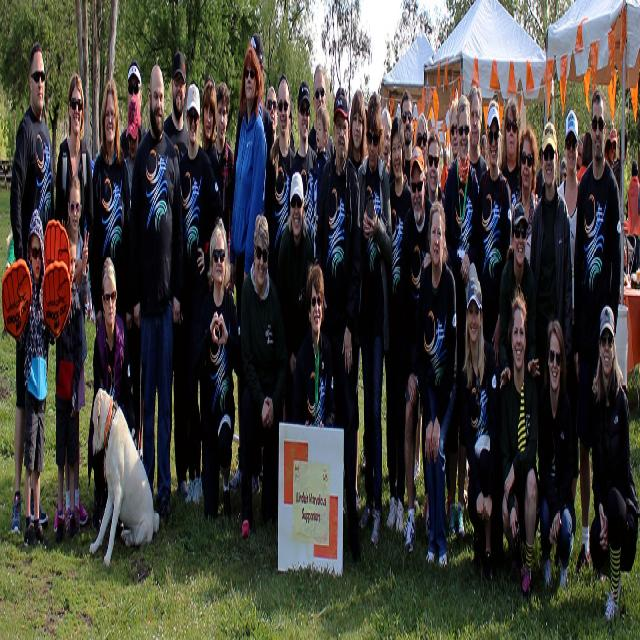body: (127, 58, 184, 537), (8, 39, 58, 549), (572, 82, 622, 580), (315, 92, 363, 563), (228, 36, 268, 504), (441, 88, 482, 544), (414, 194, 460, 580), (178, 81, 218, 509), (588, 300, 640, 624), (191, 209, 244, 526), (358, 90, 394, 556), (236, 209, 281, 542), (399, 143, 434, 556), (442, 91, 474, 542), (16, 206, 57, 545), (52, 174, 90, 536), (498, 278, 540, 599), (162, 49, 191, 502), (227, 29, 275, 299), (529, 119, 573, 392), (87, 74, 132, 339), (534, 314, 576, 597), (383, 114, 411, 536), (460, 275, 498, 582), (86, 255, 125, 534), (276, 169, 315, 428), (476, 98, 512, 368), (556, 105, 580, 509), (53, 69, 95, 296), (54, 220, 83, 541), (120, 93, 144, 460), (498, 199, 540, 391), (347, 88, 366, 512), (292, 260, 337, 430), (266, 70, 297, 288), (413, 110, 429, 485), (288, 77, 318, 256), (212, 80, 235, 292), (510, 124, 538, 249), (119, 56, 149, 161), (312, 102, 331, 256), (308, 64, 335, 162), (200, 82, 221, 192), (468, 83, 489, 191), (604, 121, 628, 211), (626, 157, 640, 282), (626, 158, 640, 277), (425, 130, 445, 210), (400, 88, 415, 187), (576, 125, 594, 187), (380, 102, 394, 176), (264, 84, 278, 146), (265, 82, 278, 146), (532, 146, 543, 205), (439, 144, 451, 192), (555, 150, 567, 191), (288, 102, 296, 158), (440, 148, 449, 192), (497, 126, 505, 174), (480, 129, 489, 171), (637, 171, 640, 230), (334, 84, 346, 98), (363, 99, 369, 118), (333, 136, 336, 153)
